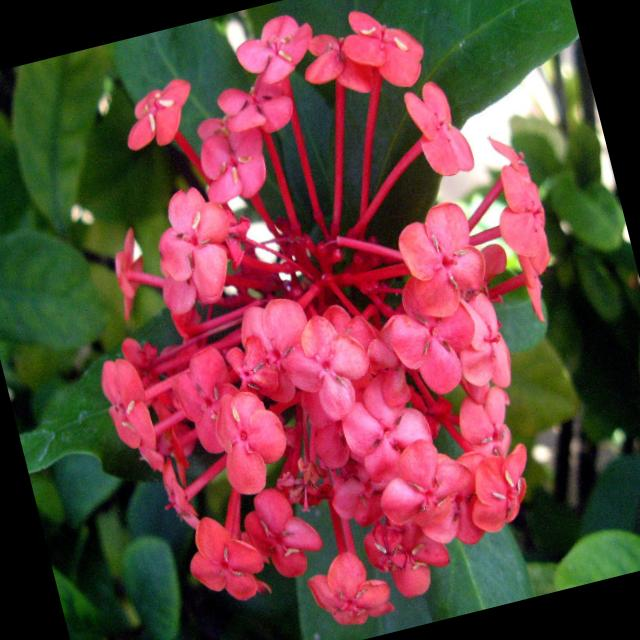Chinese-Ixora: (16, 0, 639, 640)
